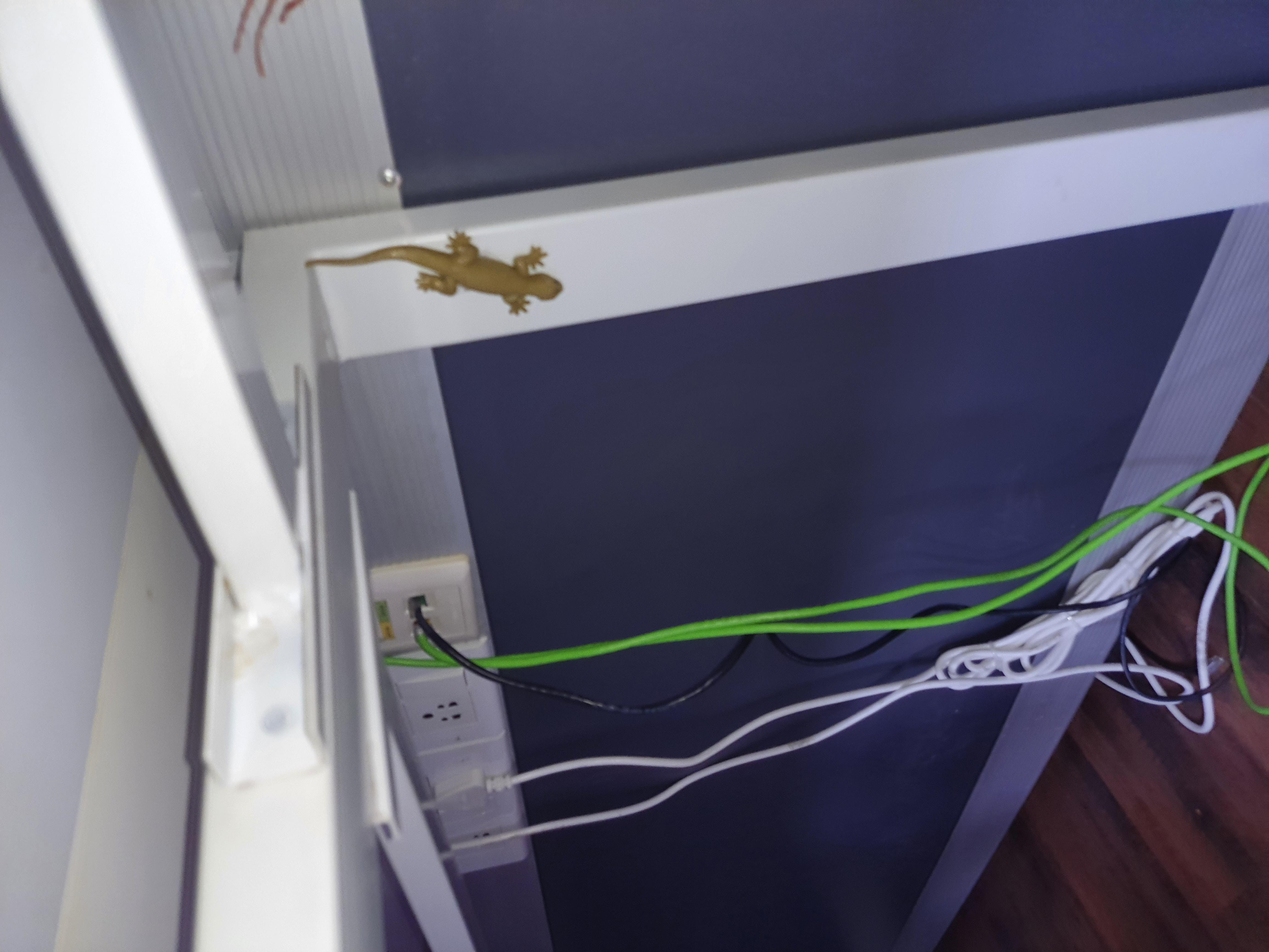cockroach: (1157, 159, 1269, 242)
lizard: (828, 233, 960, 424)
